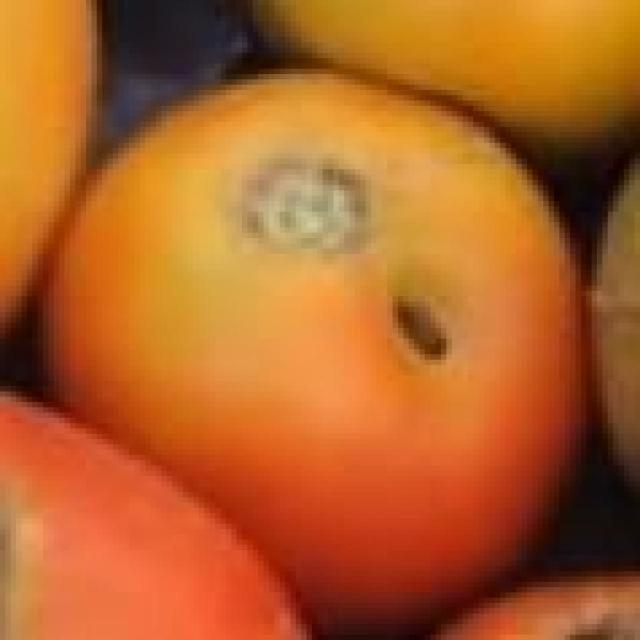Blossom End Rot Fruit: (233, 169, 301, 268)
